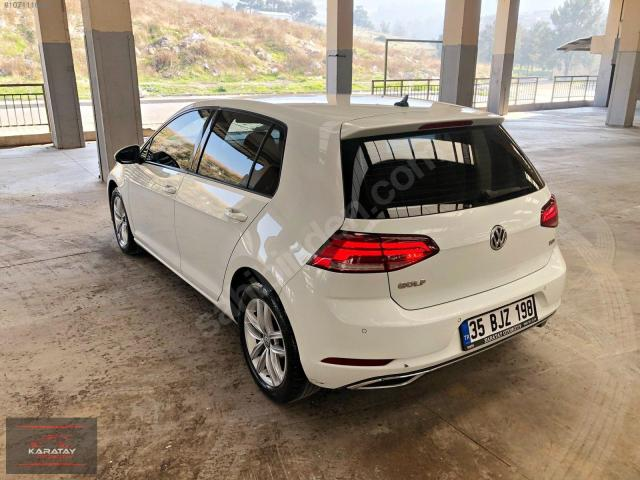plaka: (460, 295, 537, 350)
